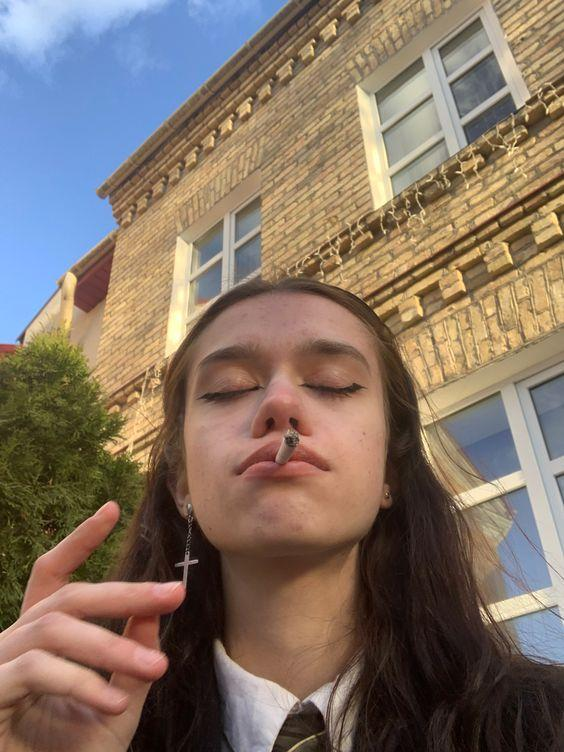cigarette: (275, 429, 300, 464)
